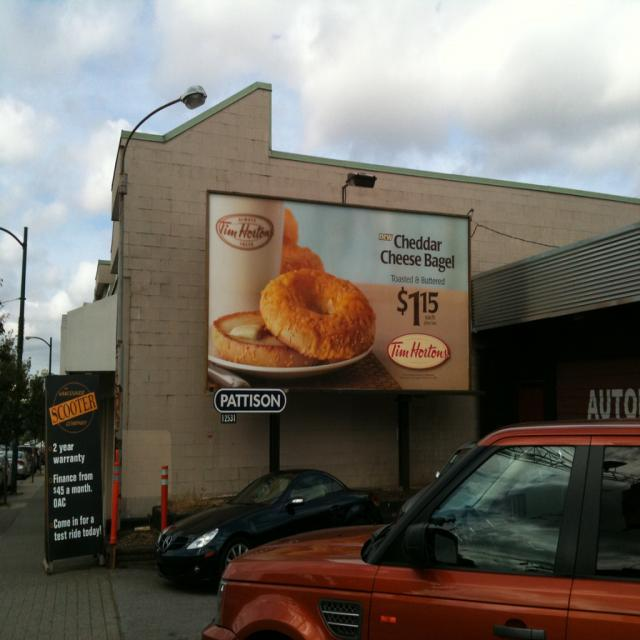Bagel: (258, 265, 376, 364), (210, 310, 312, 377), (278, 245, 322, 277), (282, 210, 299, 244)
